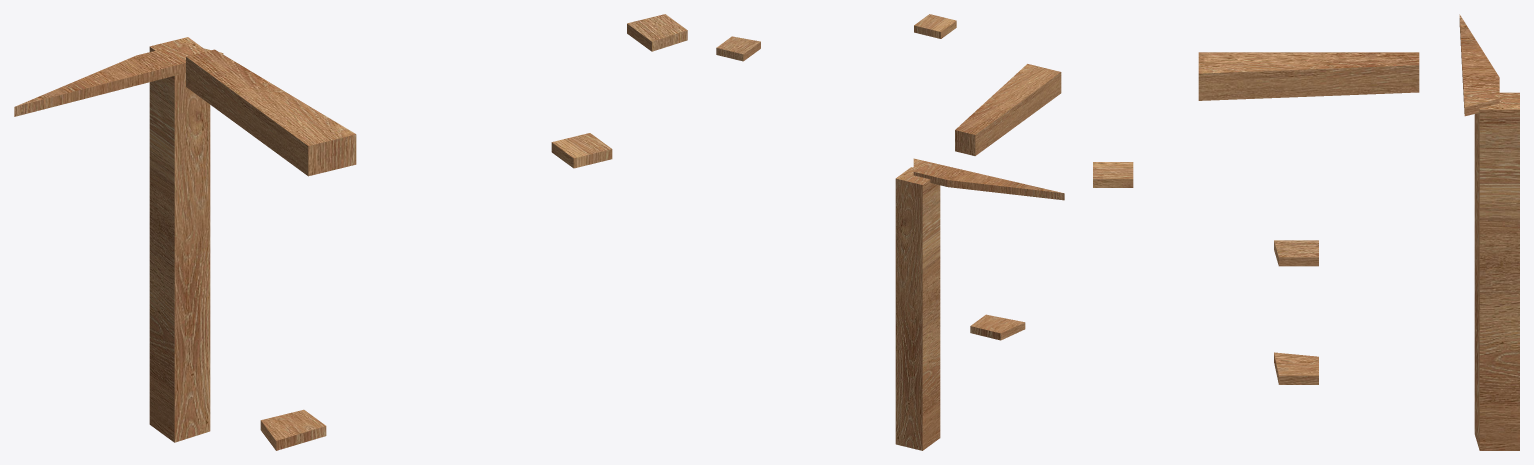
The model's file is 19416_deepcad.glb.
3 renders of one model, left to right at view 1: azimuth 30°, elevation 25°; view 2: azimuth 150°, elevation 25°; view 3: azimuth 270°, elevation 25°, orthographic. The views are drawn at different scales.
Parts seen in each view (by area): view 1: test_cmd_19416_pred; view 2: test_cmd_19416_pred; view 3: test_cmd_19416_pred.
Boxes of the visible parts, x1=… form: test_cmd_19416_pred: x1=14, y1=14, x2=687, y2=450; test_cmd_19416_pred: x1=716, y1=14, x2=1064, y2=450; test_cmd_19416_pred: x1=1093, y1=14, x2=1519, y2=450.
Bounding box in the file's own units: 1 × 0.6891 × 0.7143.
1 material, 1 textured.
